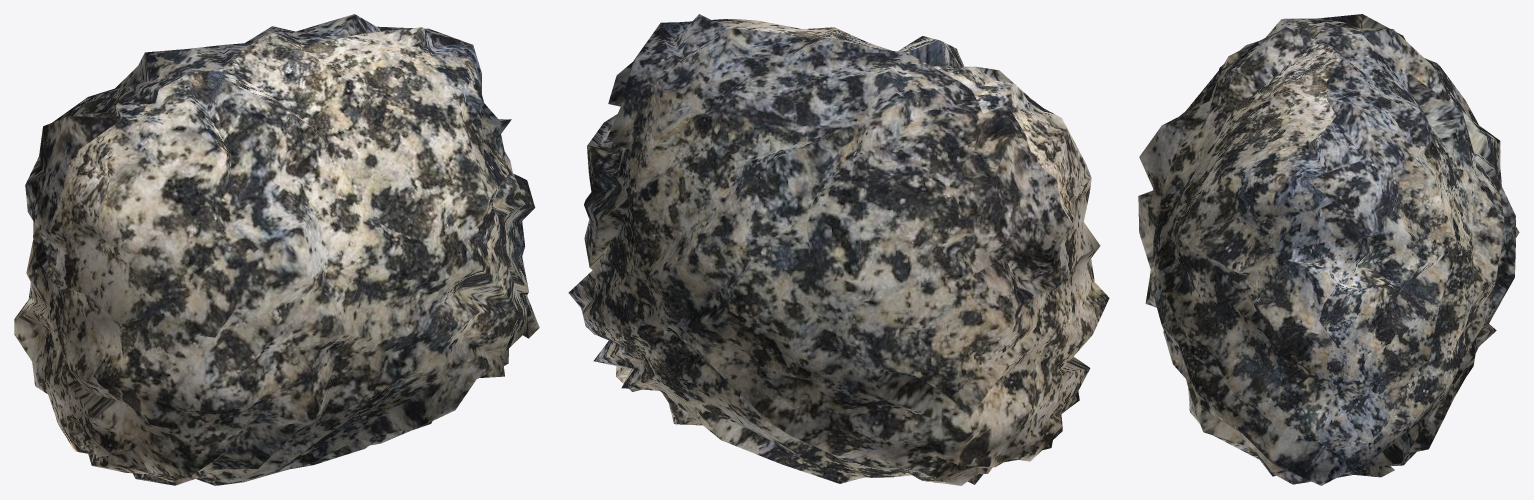
Rendered from Diorite.fbx.
3 views of the same model, side by side, from view 1: azimuth 30°, elevation 25°; view 2: azimuth 150°, elevation 25°; view 3: azimuth 270°, elevation 25° (orthographic). The views are drawn at different scales.
Parts seen in each view (by area): view 1: Diorite; view 2: Diorite; view 3: Diorite.
Part boxes in pixels (left/top/right/bottom): Diorite: left=14, top=14, right=539, bottom=485; Diorite: left=568, top=14, right=1109, bottom=485; Diorite: left=1138, top=14, right=1519, bottom=485.
Size of the model in its own units: 277 by 237 by 211.
